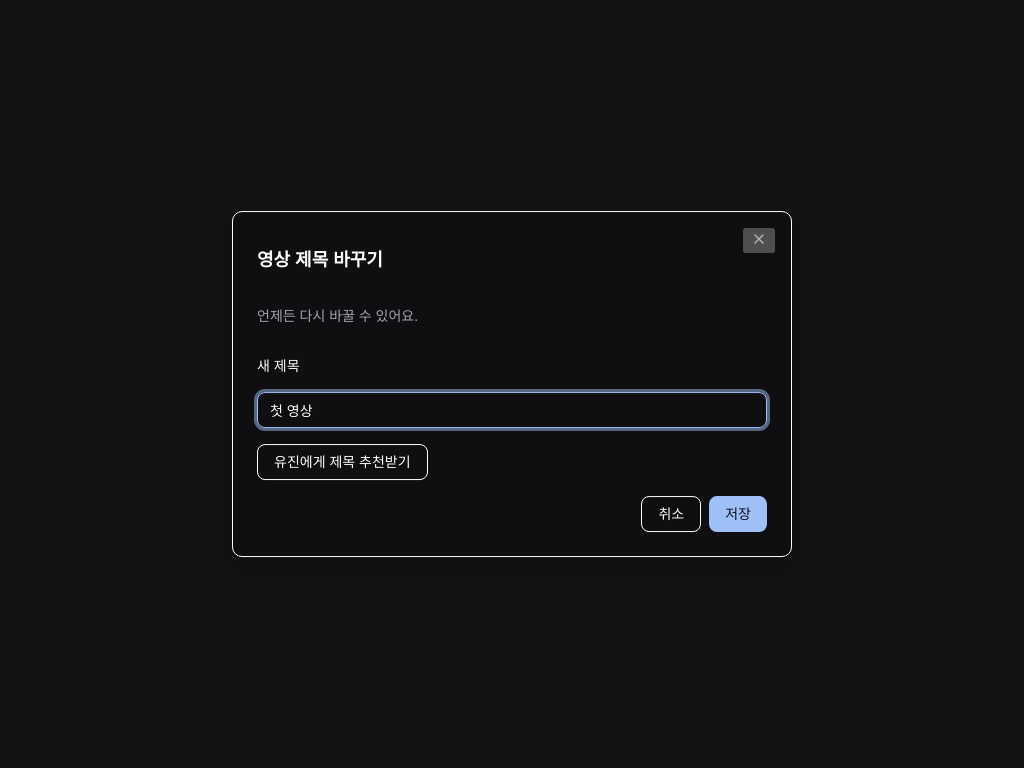
영상 제목 바꾸기 › 저장이 실패하면 창을 닫지 않고 다시 해 보라고 말한다
Replace the text in the field labelled "새 제목" with "새 제목" at x=512, y=410, box [257,392,767,428]
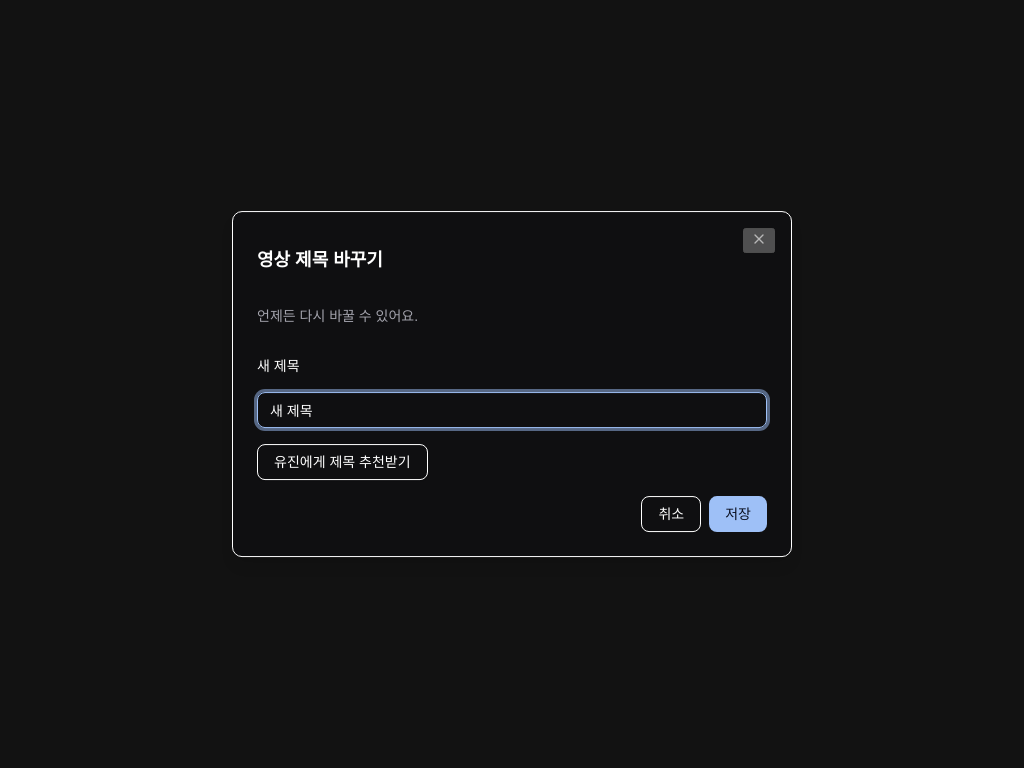
Click the button "저장" at x=738, y=514, box [709,496,767,532]
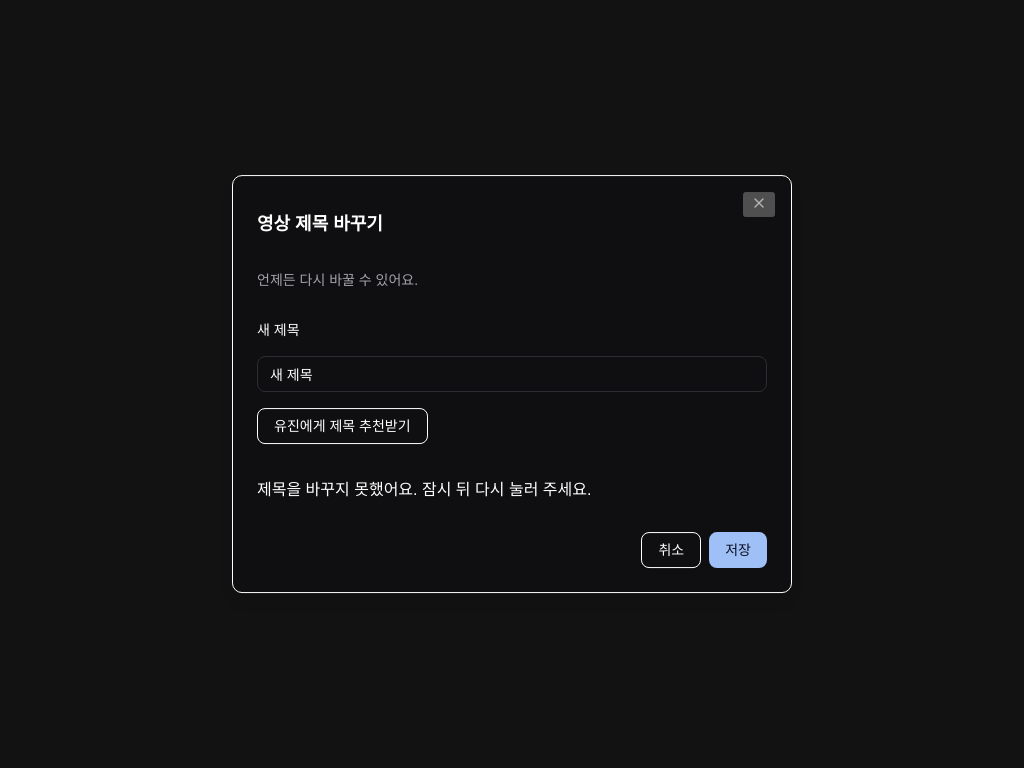
Check: the message shows "제목을 바꾸지 못했어요", box [257,481,591,498]
